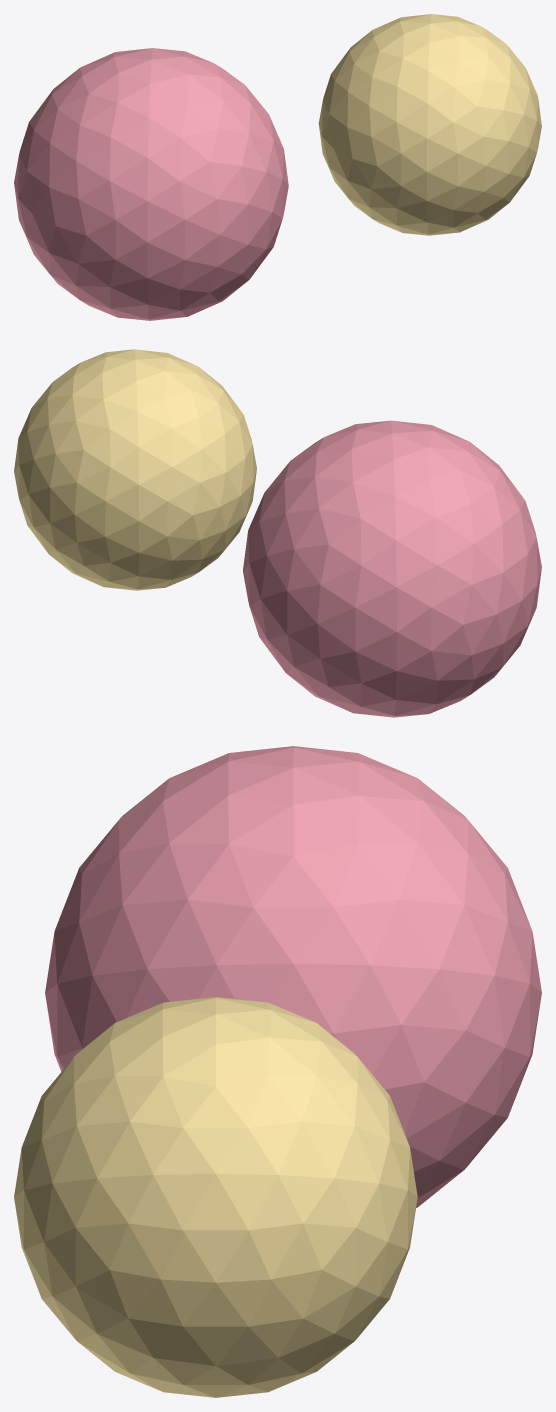
Rendered from Sample-Dual-Material.glb.
3 views of the same model, one above another, from view 1: azimuth 30°, elevation 25°; view 2: azimuth 150°, elevation 25°; view 3: azimuth 270°, elevation 25° (orthographic). The views are drawn at different scales.
Parts seen in each view (by area): view 1: Rose sculpture, Golden sculpture; view 2: Rose sculpture, Golden sculpture; view 3: Rose sculpture, Golden sculpture.
Part boxes in pixels (x1,y1,x2,y2): Rose sculpture: (14, 48, 288, 320); Golden sculpture: (318, 14, 541, 235); Rose sculpture: (243, 420, 541, 717); Golden sculpture: (14, 349, 256, 590); Rose sculpture: (45, 746, 541, 1207); Golden sculpture: (14, 997, 417, 1397).
Size of the model in its own units: 3.18 by 1.6 by 1.7.
